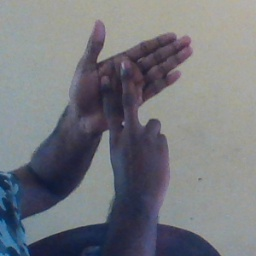N: (58, 14, 196, 175)
